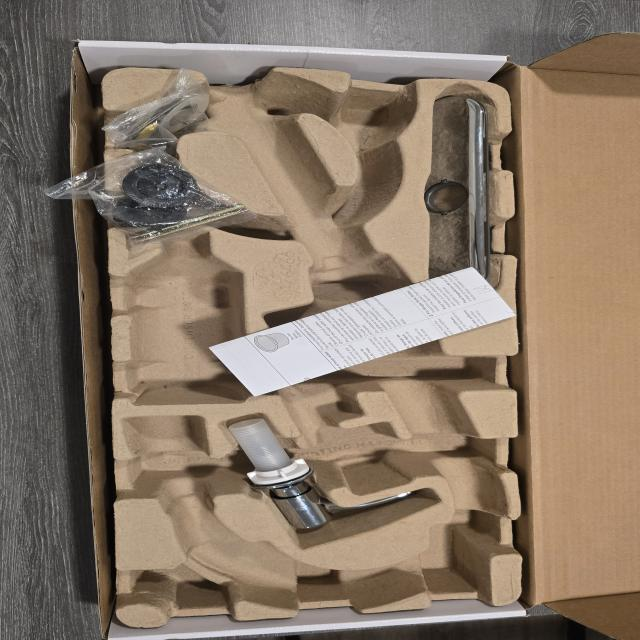1m: (122, 74, 502, 605)
2: (227, 417, 417, 530)
3m: (129, 230, 242, 406)
4o: (425, 96, 487, 296)
5m: (338, 95, 413, 145)
6: (102, 64, 214, 150)
7: (43, 142, 258, 256)
8: (207, 265, 520, 398)
